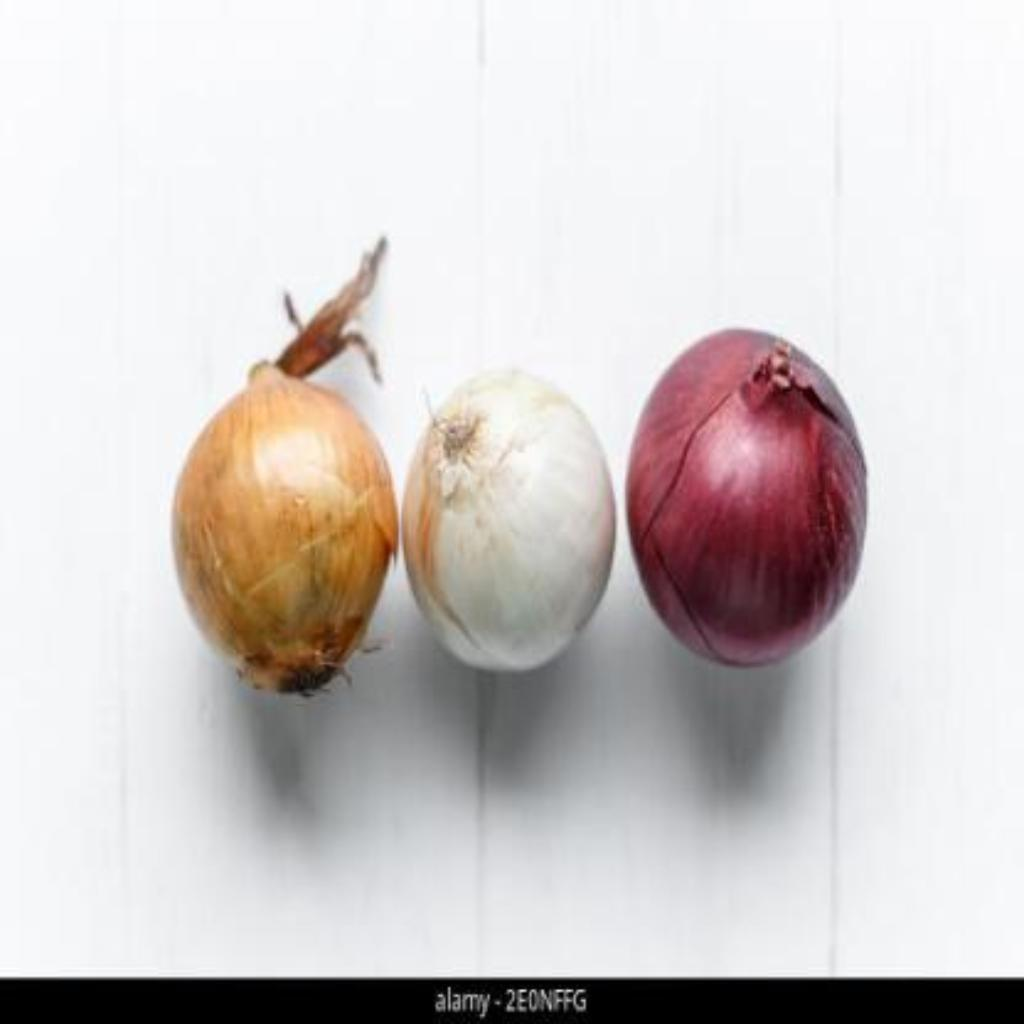Onion: (628, 330, 869, 666), (172, 362, 399, 695), (404, 372, 618, 673)
